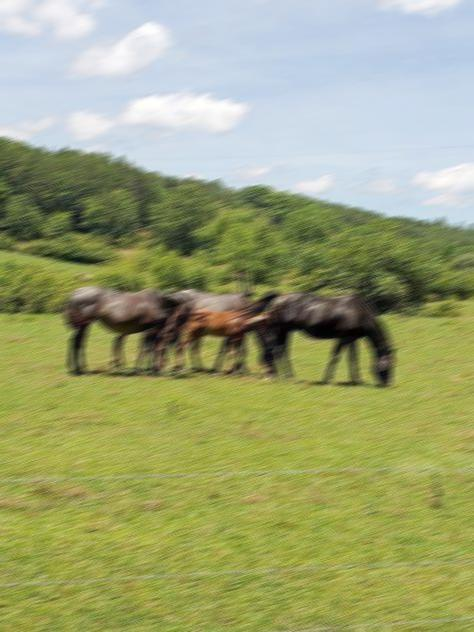horse: (61, 284, 193, 376)
